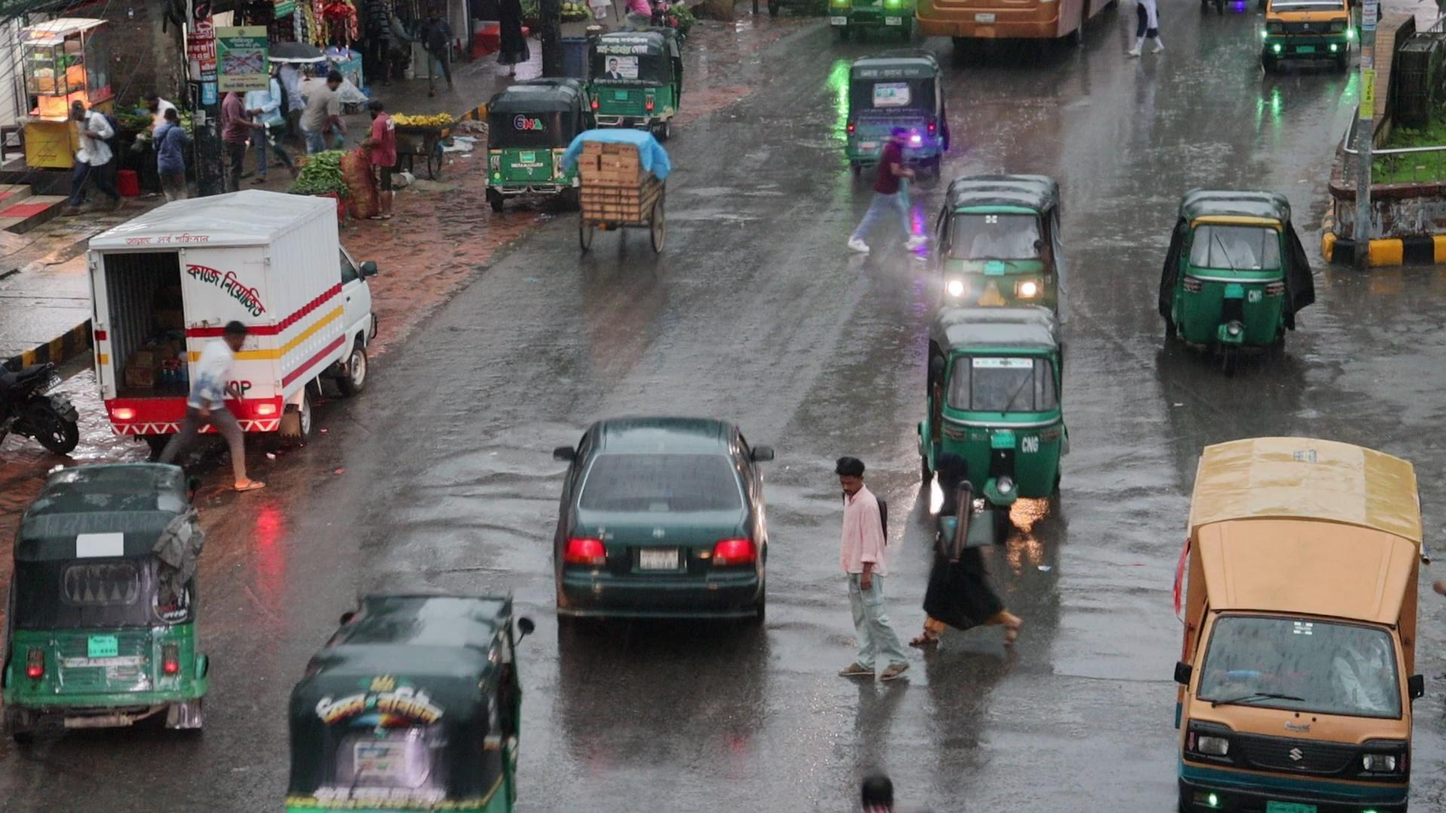Truck: (1169, 443, 1423, 813)
